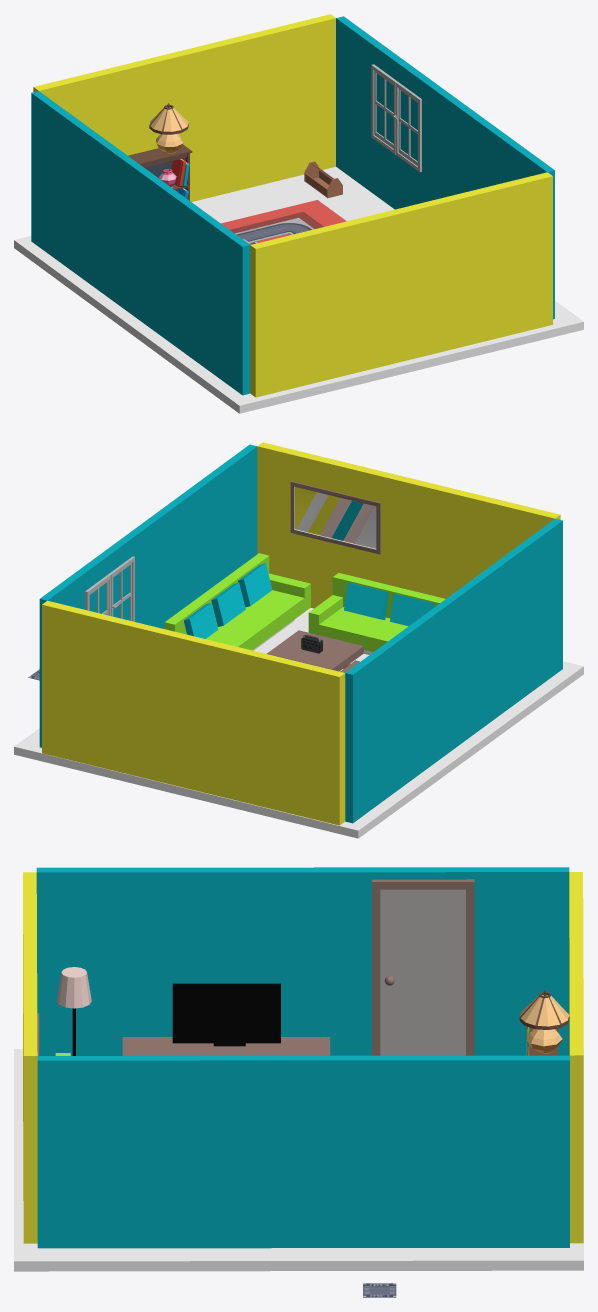
File: room.glb
3 renders of one model, top to bottom at view 1: azimuth 30°, elevation 25°; view 2: azimuth 150°, elevation 25°; view 3: azimuth 270°, elevation 25°, orthographic. The views are drawn at different scales.
Parts seen in each view (by area): view 1: Wall_Box_Three, Wall_Box, Wall_Box_Two, Wall_Box_Four, Ground_Box, Bookcase_Box, Window_None, Rug_Box, Toolbox_Box; view 2: Wall_Box_Two, Wall_Box, Wall_Box_Three, Wall_Box_Four, Ground_Box, Sofa_Box, Picture_None, Sofa_Box_Two, TableTop_Box, Window_None, Cushion_None_Five, Cushion_None_Four (+3 smaller); view 3: Wall_Box_Four, Wall_Box, Door_Box, Ground_Box, TVScreen_None, Wall_Box_Three, Wall_Box_Two, TVStand_Box, Bookcase_Box, TV_Box, Lampshade_None.
Boxes of the visible parts, x1=… form: Wall_Box_Three: x1=250, y1=172, x2=552, y2=397; Wall_Box: x1=31, y1=91, x2=250, y2=395; Wall_Box_Two: x1=33, y1=14, x2=335, y2=201; Wall_Box_Four: x1=336, y1=16, x2=554, y2=319; Ground_Box: x1=14, y1=167, x2=583, y2=413; Bookcase_Box: x1=128, y1=103, x2=192, y2=200; Window_None: x1=371, y1=64, x2=421, y2=172; Rug_Box: x1=221, y1=200, x2=346, y2=243; Toolbox_Box: x1=304, y1=161, x2=342, y2=198; Wall_Box_Two: x1=42, y1=600, x2=345, y2=825; Wall_Box: x1=345, y1=518, x2=562, y2=823; Wall_Box_Three: x1=257, y1=442, x2=560, y2=608; Wall_Box_Four: x1=39, y1=444, x2=257, y2=747; Ground_Box: x1=14, y1=608, x2=583, y2=838; Sofa_Box: x1=164, y1=553, x2=310, y2=650; Picture_None: x1=290, y1=481, x2=380, y2=554; Sofa_Box_Two: x1=308, y1=573, x2=445, y2=654; TableTop_Box: x1=267, y1=630, x2=363, y2=671; Window_None: x1=85, y1=556, x2=134, y2=621; Cushion_None_Five: x1=344, y1=582, x2=388, y2=619; Cushion_None_Four: x1=211, y1=582, x2=245, y2=626; Wall_Box_Four: x1=37, y1=1055, x2=569, y2=1248; Wall_Box: x1=36, y1=867, x2=569, y2=1055; Door_Box: x1=372, y1=879, x2=474, y2=1055; Ground_Box: x1=14, y1=1048, x2=583, y2=1271; TVScreen_None: x1=175, y1=987, x2=278, y2=1040; Wall_Box_Three: x1=23, y1=872, x2=37, y2=1243; Wall_Box_Two: x1=569, y1=872, x2=583, y2=1243; TVStand_Box: x1=122, y1=1037, x2=330, y2=1055; Bookcase_Box: x1=519, y1=990, x2=569, y2=1055; TV_Box: x1=172, y1=983, x2=280, y2=1046; Lampshade_None: x1=57, y1=967, x2=91, y2=1008.
Size of the model in its own units: 8.81 by 3.28 by 8.51.
Materials: 100 (2 with a texture image).
